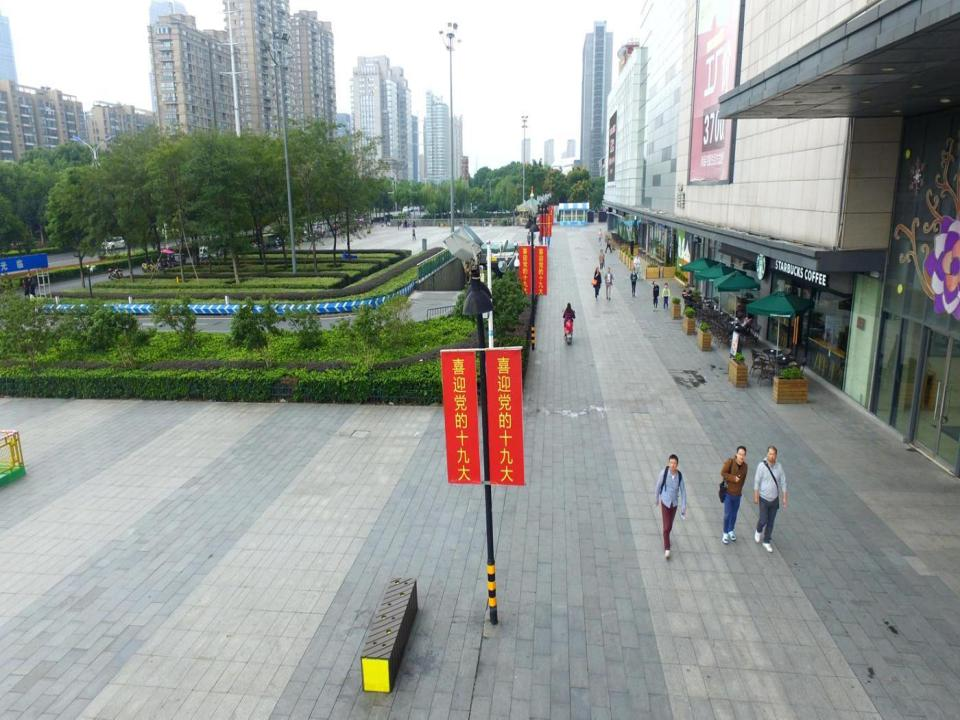car: (100, 236, 128, 249)
